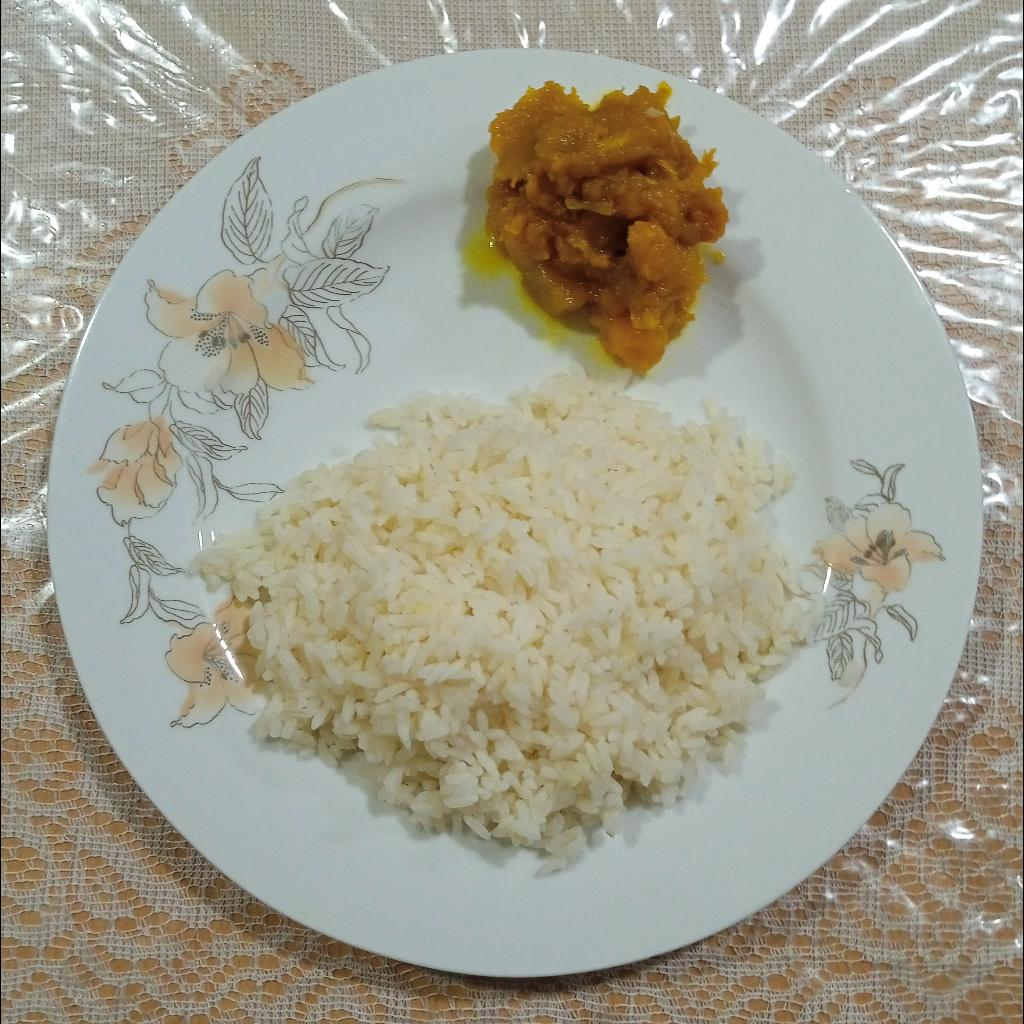kumra-vaji: (487, 77, 733, 375)
rice: (184, 372, 823, 879)
